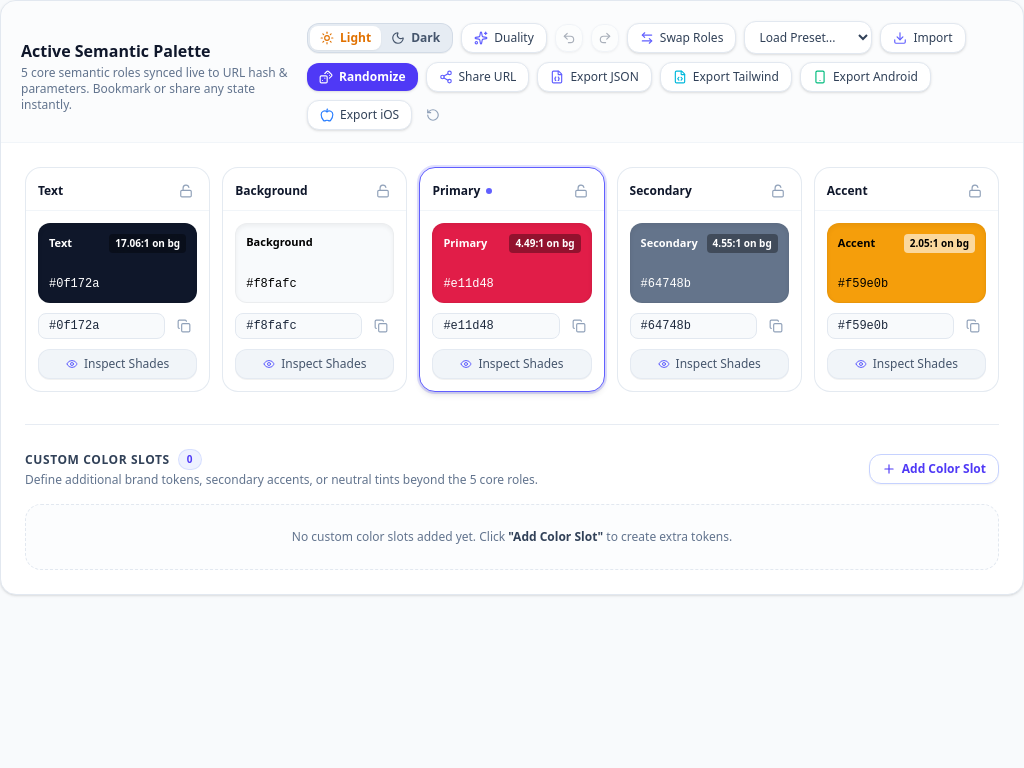
it: PaletteBar (TT-008) › manages custom extra color slots: add, rename, pick color, lock, and delete
The image size is (1024, 768).
expect the text "No custom color slots added yet" is shown: met, box x1=292 y1=528 x2=508 y2=545
# Click Add Color Slot
Click the button with aria-label "Add custom color slot" at (934, 468), box x1=869 y1=454 x2=999 y2=484
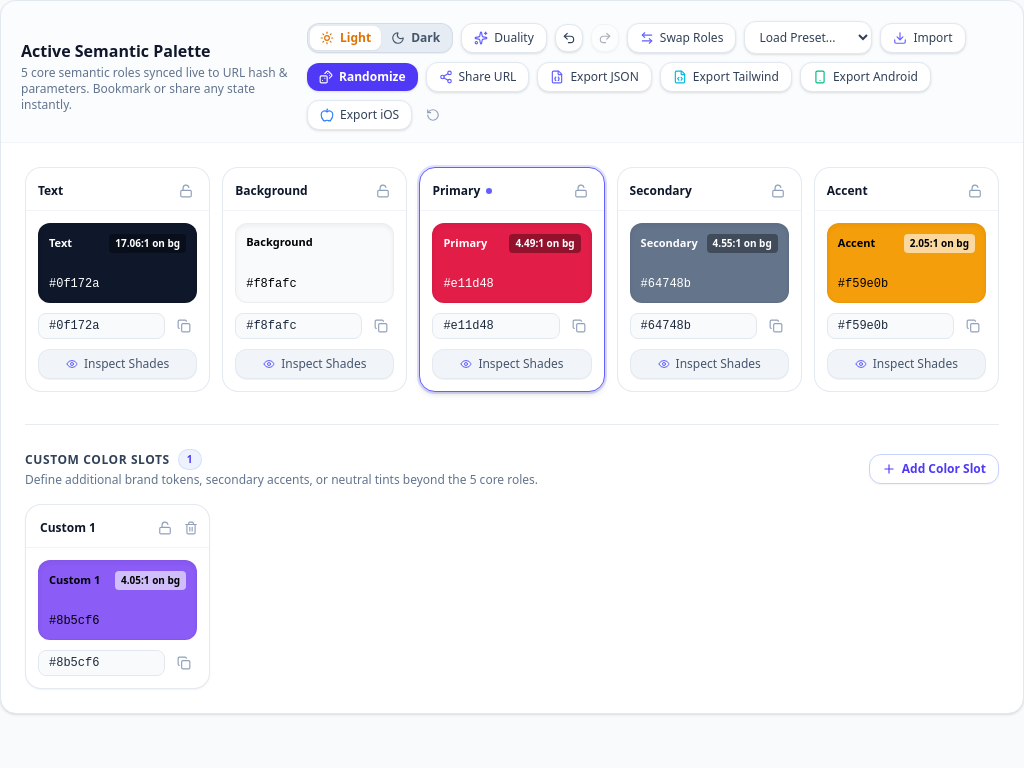
expect the text "No custom color slots added yet" is gone: met
# Rename slot
Replace the text in the field showing "Custom 1" with "Brand Purple" at (94, 528), box x1=38 y1=520 x2=150 y2=536
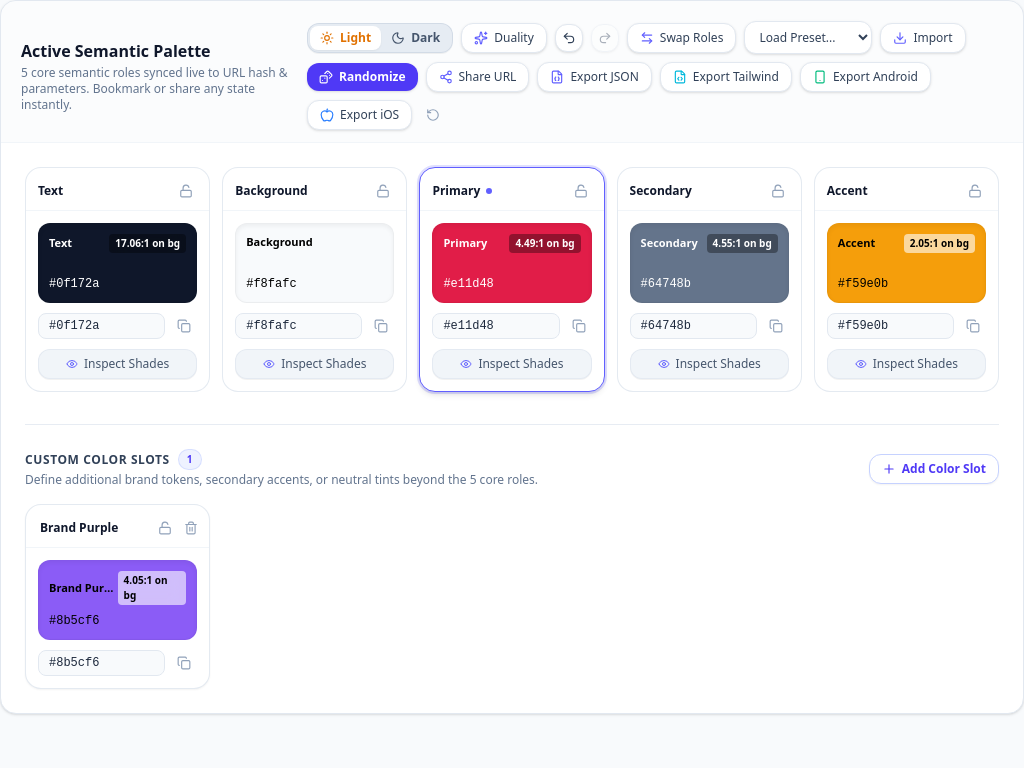
# Change slot hex code
Replace the text in the field named "Brand Purple hex code" with "#9333ea" at (102, 663), box x1=38 y1=650 x2=165 y2=676
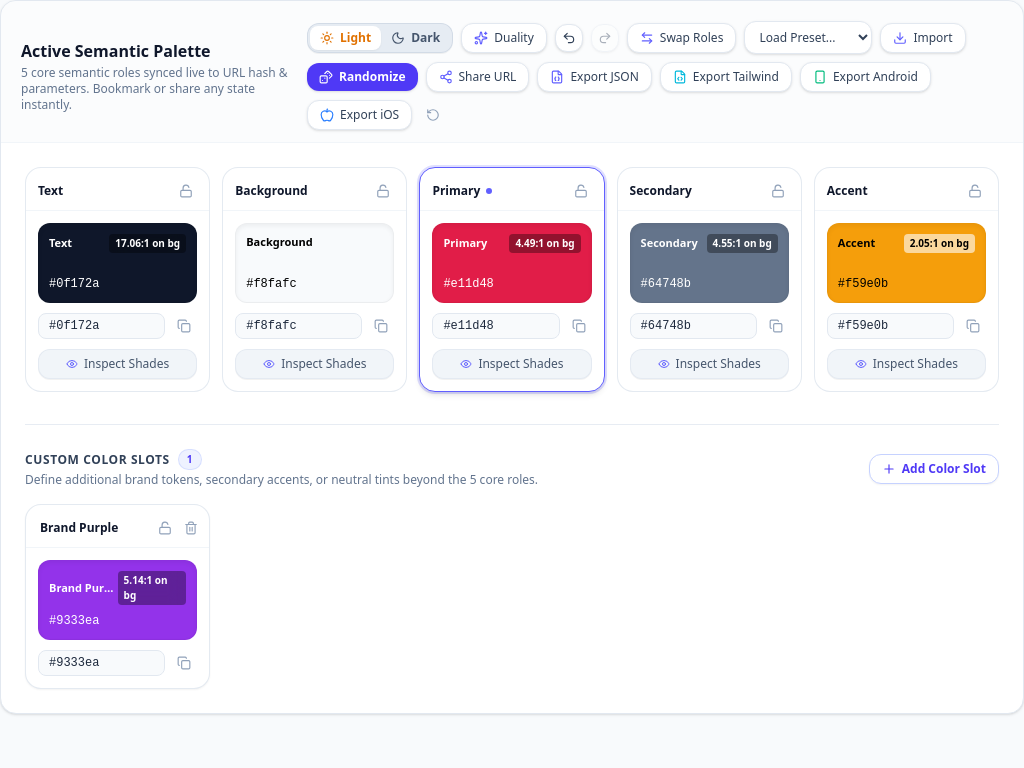
# Toggle lock
Click the button named "Toggle lock for Brand Purple" at (165, 528), box x1=154 y1=517 x2=176 y2=539
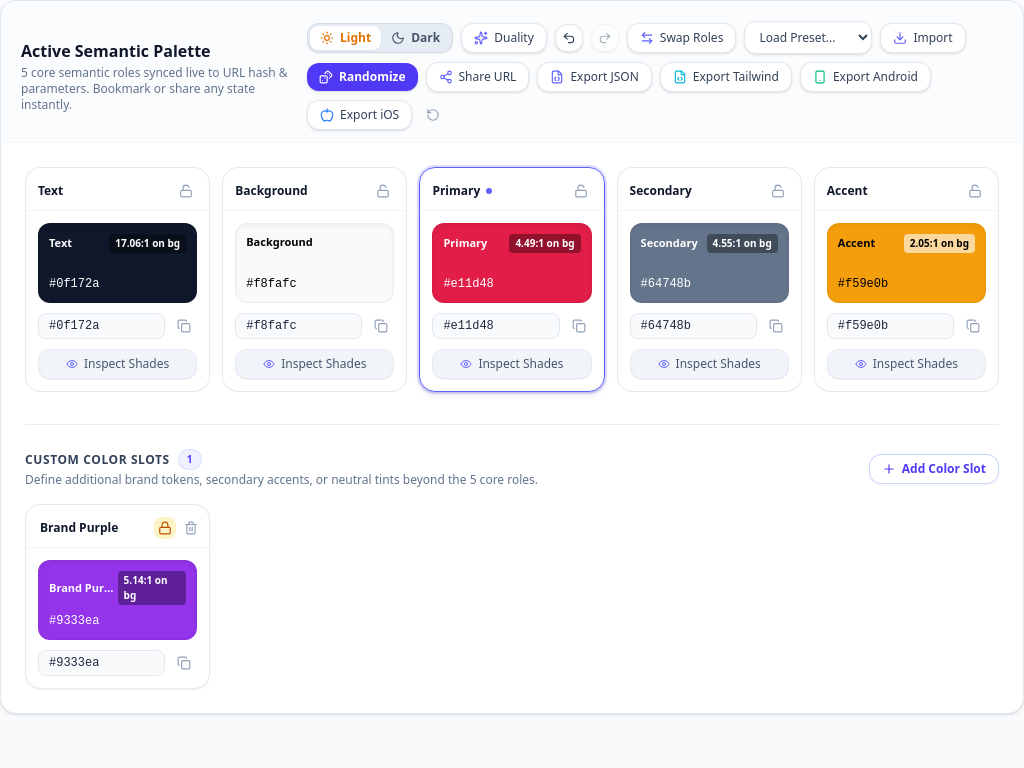
expect the button named "Toggle lock for Brand Purple" has attribute title="Locked (will not change on randomize)": met, box x1=154 y1=517 x2=176 y2=539
# Delete slot
Click the button named "Delete Brand Purple" at (191, 528), box x1=180 y1=517 x2=202 y2=539
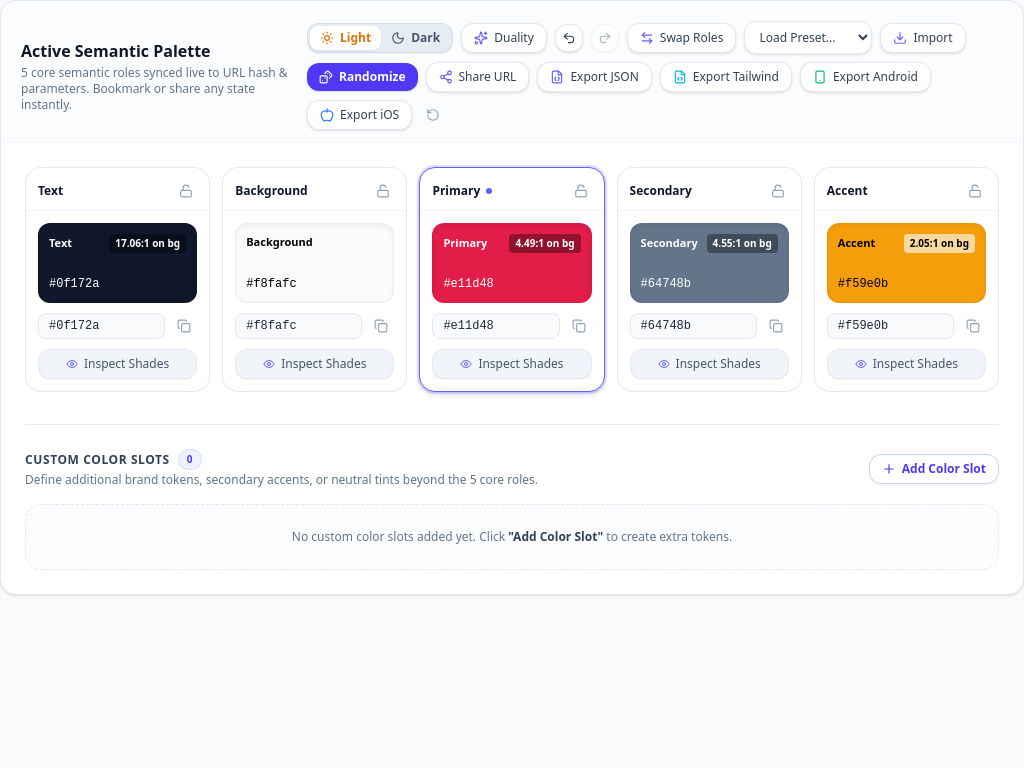
expect the text "No custom color slots added yet" is shown: met, box x1=292 y1=528 x2=508 y2=545
